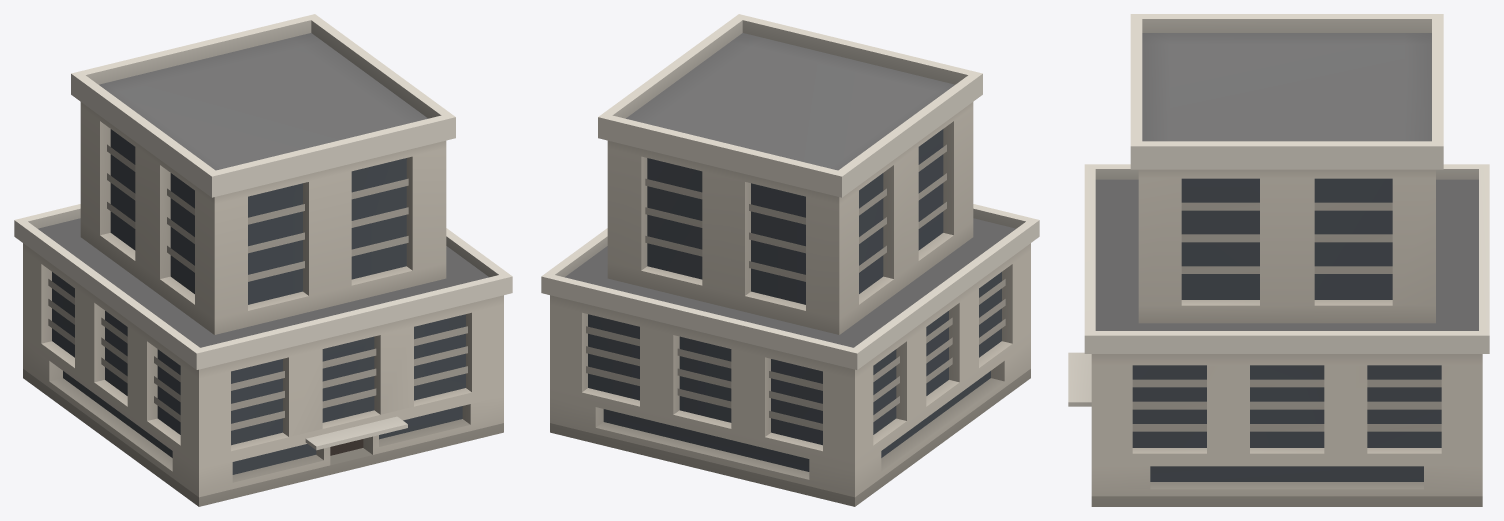
Rendered from building-midrise-setback.glb.
3 renders of one model, left to right at view 1: azimuth 30°, elevation 25°; view 2: azimuth 150°, elevation 25°; view 3: azimuth 270°, elevation 25°, orthographic. The views are drawn at different scales.
Visible parts, largest first — view 1: Building; view 2: Building; view 3: Building.
Boxes of the visible parts, <box> form: Building: <box>14,14,512,506</box>; Building: <box>541,14,1039,506</box>; Building: <box>1068,14,1489,506</box>.
Bounding box in the file's own units: 1.04 × 0.971 × 1.08.
